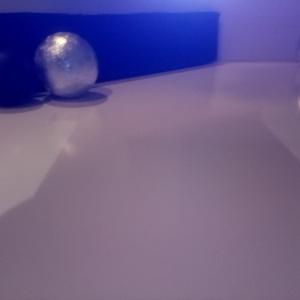alive_ball: (33, 32, 98, 98)
dead_ball: (1, 47, 32, 106)
